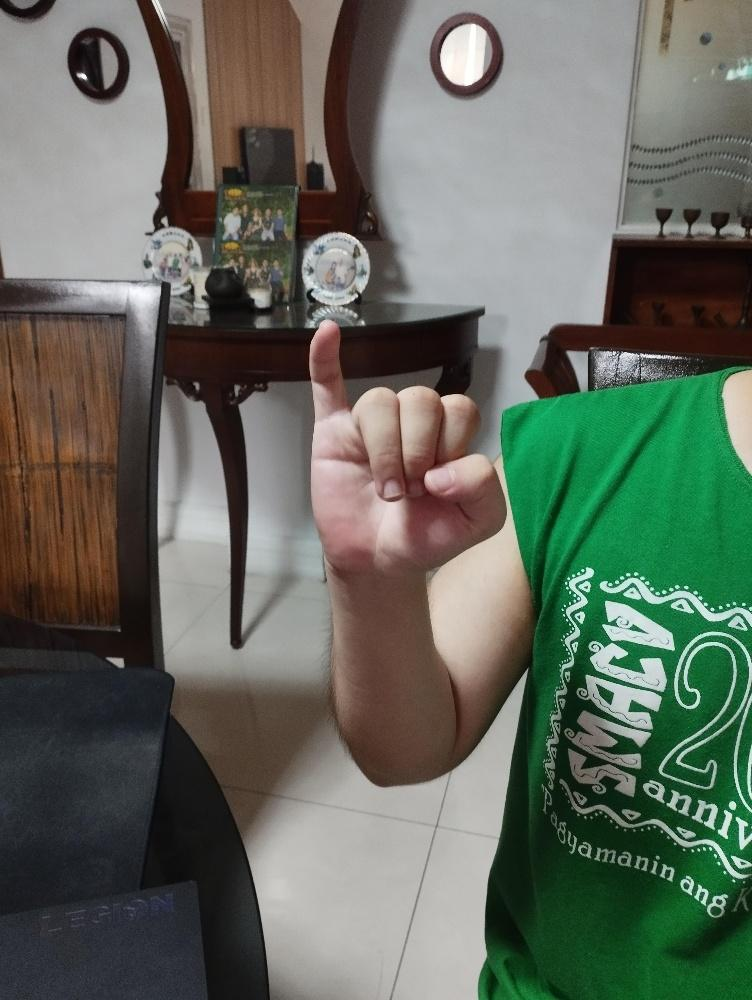i: (306, 315, 511, 582)
